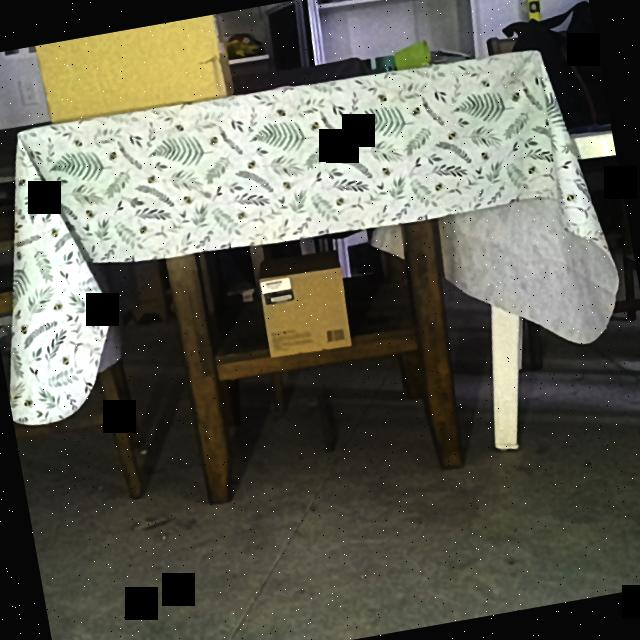box: (37, 14, 227, 124), (258, 265, 352, 357)
